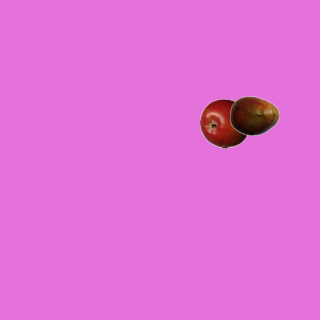Apple Braeburn: (199, 98, 249, 148)
Mango Red: (229, 90, 279, 140)
